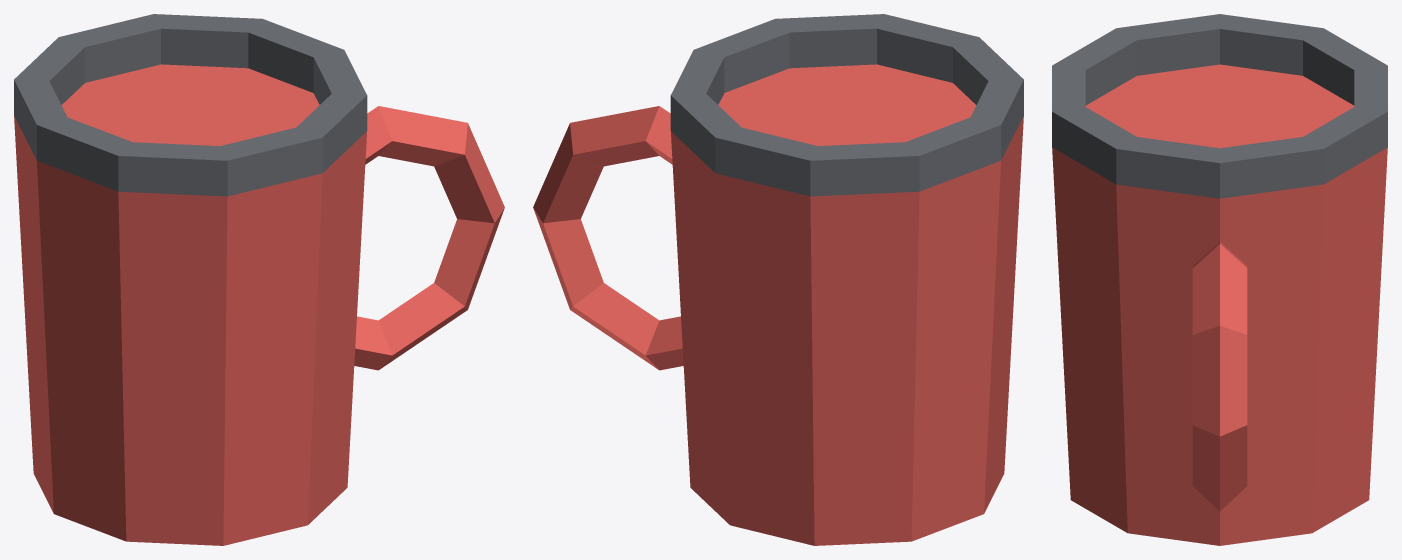
Rendered from ski-resort-and-snow-park-mug-f605857b__26026.glb.
3 renders of one model, left to right at view 1: azimuth 30°, elevation 25°; view 2: azimuth 150°, elevation 25°; view 3: azimuth 270°, elevation 25°, orthographic.
Visible parts, largest first — view 1: mug; view 2: mug; view 3: mug.
Boxes of the visible parts, left/top/right/bottom form: mug: left=14, top=14, right=504, bottom=545; mug: left=533, top=14, right=1023, bottom=545; mug: left=1052, top=14, right=1387, bottom=545.
Size of the model in its own units: 0.137 by 0.11 by 0.0856.
